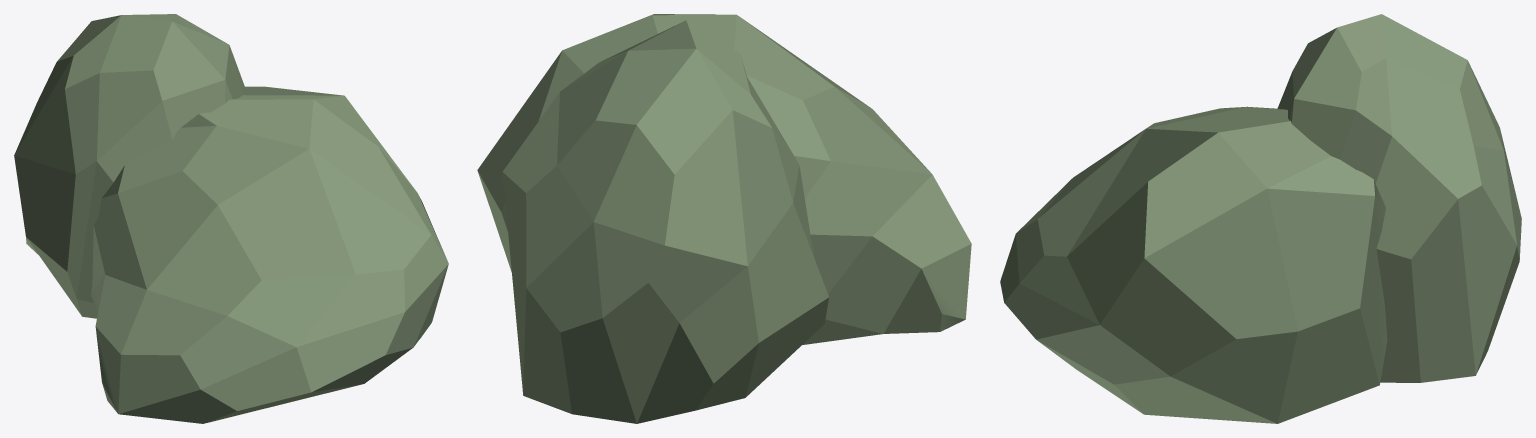
The model's file is Bush2.fbx.
3 views of the same model, side by side, from view 1: azimuth 30°, elevation 25°; view 2: azimuth 150°, elevation 25°; view 3: azimuth 270°, elevation 25° (orthographic). The views are drawn at different scales.
Parts seen in each view (by area): view 1: Big_bush2; view 2: Big_bush2; view 3: Big_bush2.
Boxes of the visible parts, left/top/right/bottom form: Big_bush2: left=14, top=14, right=448, bottom=423; Big_bush2: left=477, top=14, right=971, bottom=423; Big_bush2: left=1000, top=14, right=1521, bottom=423.
Size of the model in its own units: 11.14 by 8.88 by 13.54.
